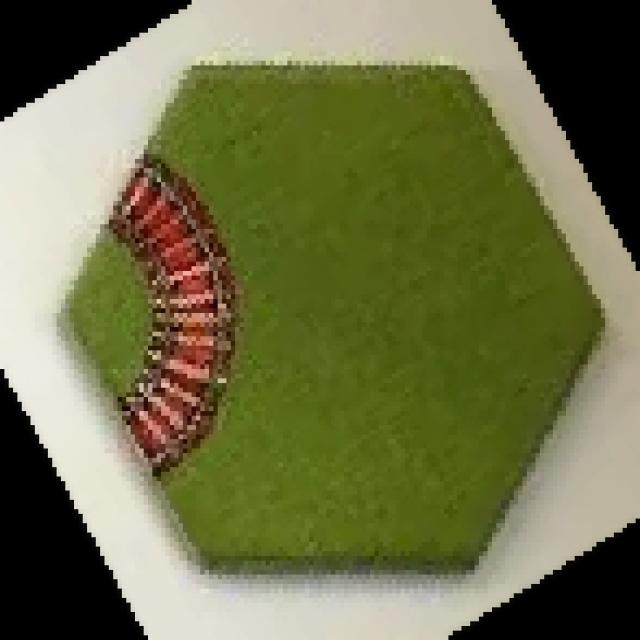1_5: (57, 60, 607, 580)
